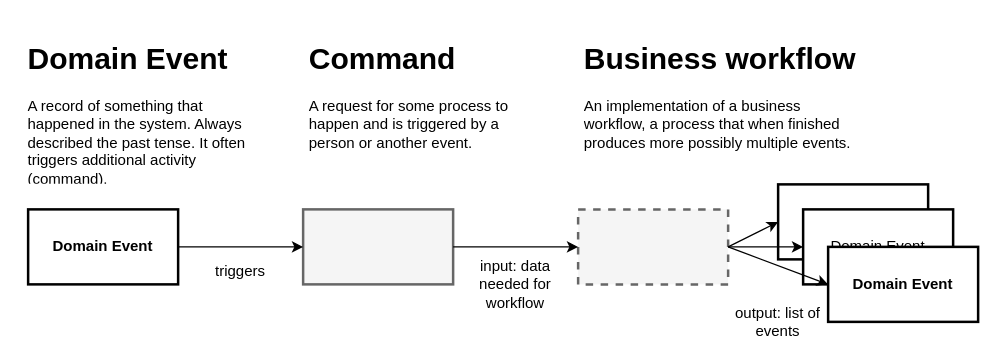
The diagram is 1000 pixels wide and 361 high, and some of its shapes have lost their labels. Each missing label, with the box of its shape:
Business Workflow: (576, 208, 729, 285)
Command: (301, 208, 454, 285)
